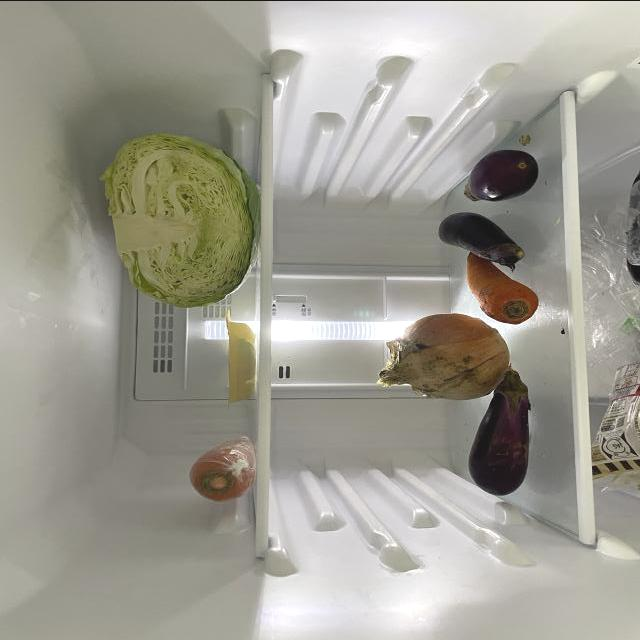cabbage: (103, 136, 264, 308)
carrot: (466, 253, 540, 321), (191, 434, 261, 500)
eggplant: (472, 369, 534, 497), (440, 212, 524, 268), (464, 148, 541, 200)
onion: (380, 310, 512, 398)
